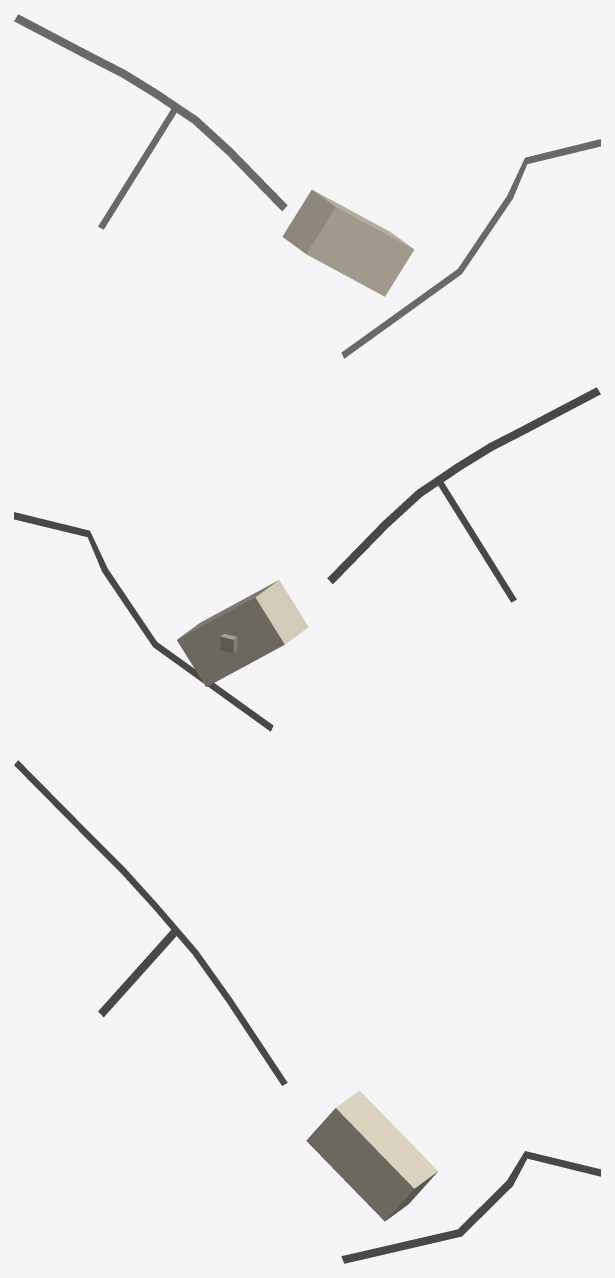
Rendered from historic-palestine-14_33_3557_3272.glb.
3 renders of one model, top to bottom at view 1: azimuth 30°, elevation 25°; view 2: azimuth 150°, elevation 25°; view 3: azimuth 330°, elevation 25°, orthographic.
Parts seen in each view (by area): view 1: Building_, Road .001, Road, Road .002; view 2: Building_, Road .001, Road, Road .002; view 3: Building_, Road .001, Road, Road .002.
Boxes of the visible parts, x1,y1,x2,y2 form: Building_: (282,189,414,296); Road .001: (14,14,287,210); Road: (341,139,600,358); Road .002: (98,106,177,229); Building_: (177,580,308,686); Road .001: (327,387,600,583); Road: (14,512,273,731); Road .002: (437,479,516,602); Building_: (306,1090,437,1221); Road .001: (14,760,287,1085); Road: (341,1151,600,1263); Road .002: (98,927,178,1017).
Bounding box in the file's own units: 106 × 73.41 × 8.7.
